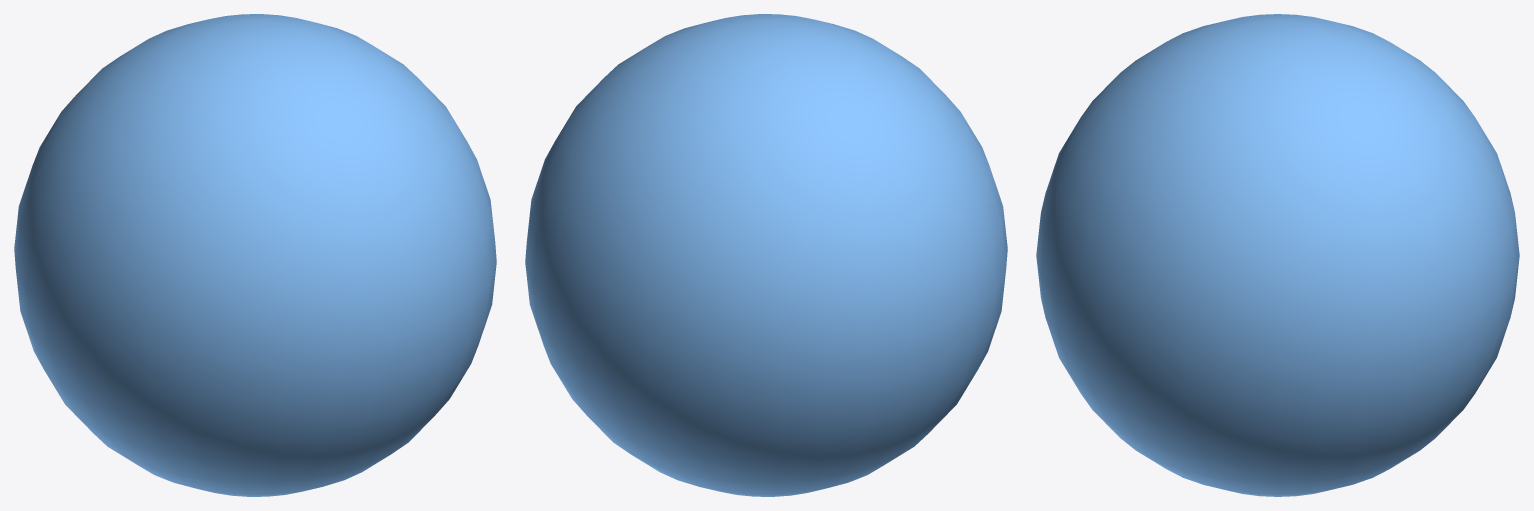
File: Au_Oro.glb
3 views of the same model, side by side, from view 1: azimuth 30°, elevation 25°; view 2: azimuth 150°, elevation 25°; view 3: azimuth 270°, elevation 25° (orthographic).
Parts seen in each view (by area): view 1: Au_Nube_Electronica; view 2: Au_Nube_Electronica; view 3: Au_Nube_Electronica.
Part boxes in pixels (box(x1,y1,x2,y2)): Au_Nube_Electronica: box(14, 14, 496, 496); Au_Nube_Electronica: box(525, 14, 1007, 496); Au_Nube_Electronica: box(1036, 14, 1519, 496).
Bounding box in the file's own units: 0.338 × 0.338 × 0.338.
